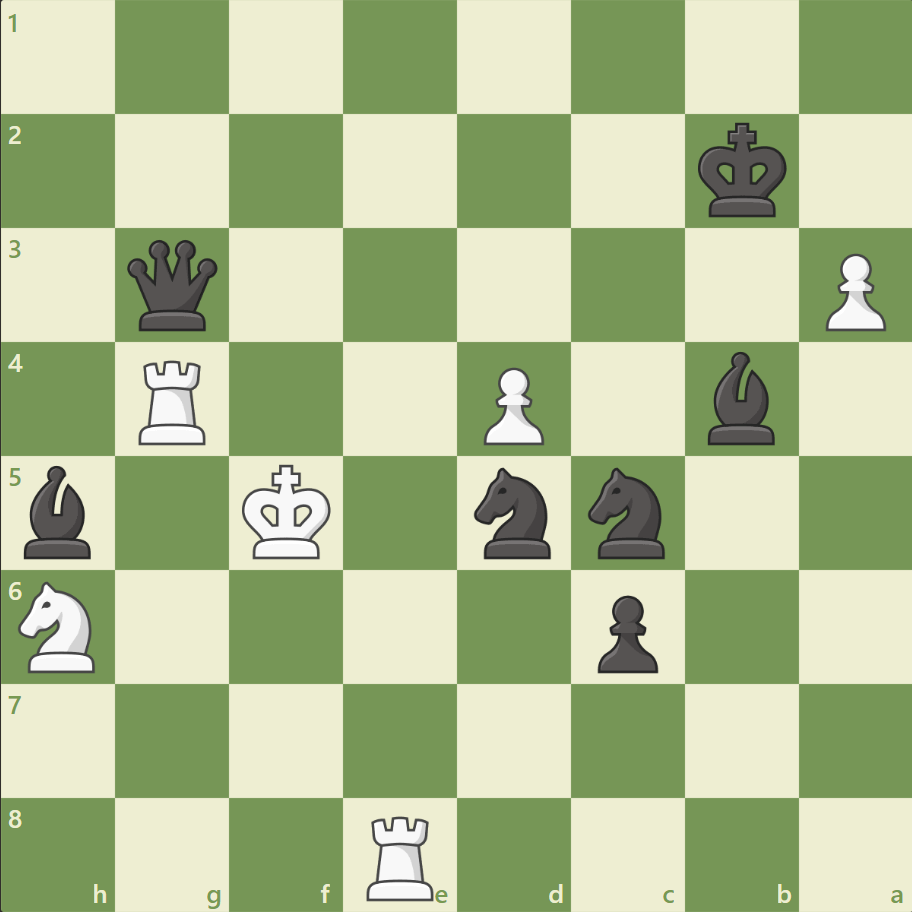K: (238, 458, 338, 566)
N: (11, 575, 108, 677)
P: (474, 359, 549, 450), (815, 246, 889, 337)
R: (360, 806, 442, 904), (133, 352, 215, 449)
b: (17, 460, 101, 563), (698, 347, 782, 449)
k: (692, 117, 792, 225)
n: (579, 461, 676, 564), (465, 461, 562, 564)
p: (588, 586, 662, 677)
q: (124, 236, 223, 335)
